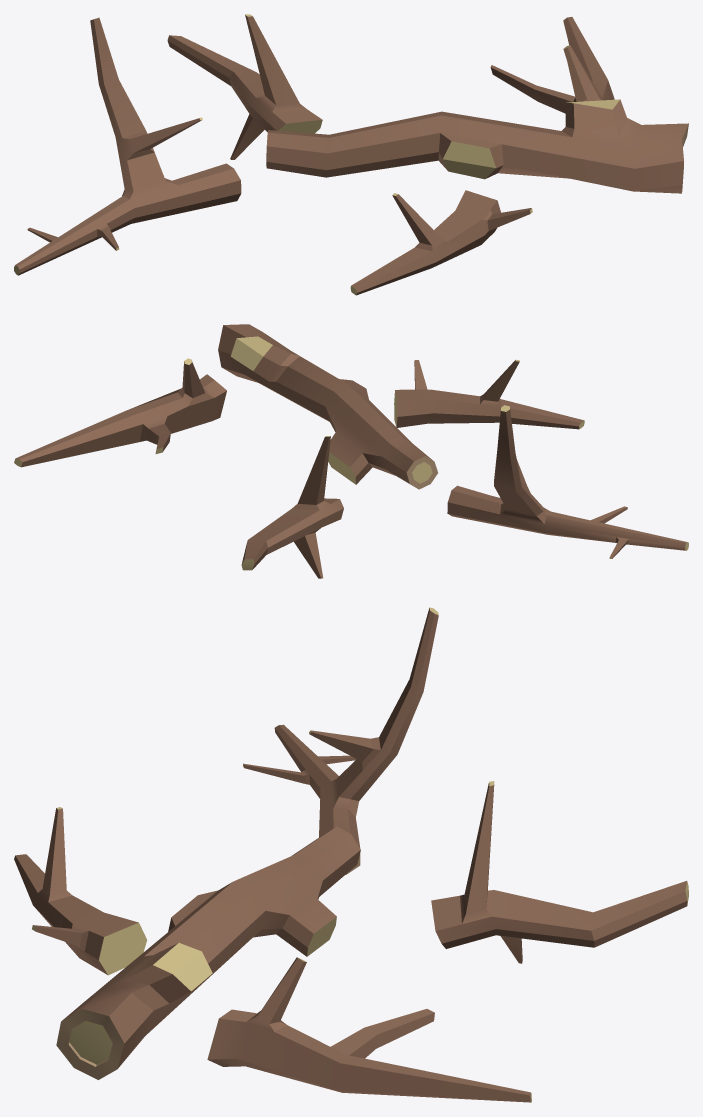
File: Trunks__Stumps_Pack_Tree_trunk01.001.fbx
The picture shows the model from 3 angles, top to bottom: view 1: azimuth 30°, elevation 25°; view 2: azimuth 150°, elevation 25°; view 3: azimuth 270°, elevation 25°; orthographic projection. The views are drawn at different scales.
Visible parts, largest first — view 1: Trunks__Stumps_Pack_Tree_trunk01.001; view 2: Trunks__Stumps_Pack_Tree_trunk01.001; view 3: Trunks__Stumps_Pack_Tree_trunk01.001.
Boxes of the visible parts, x1,y1,x2,y2 form: Trunks__Stumps_Pack_Tree_trunk01.001: (14,14,688,295); Trunks__Stumps_Pack_Tree_trunk01.001: (14,324,688,578); Trunks__Stumps_Pack_Tree_trunk01.001: (14,607,688,1102).
Bounding box in the file's own units: 459 × 140 × 340.
